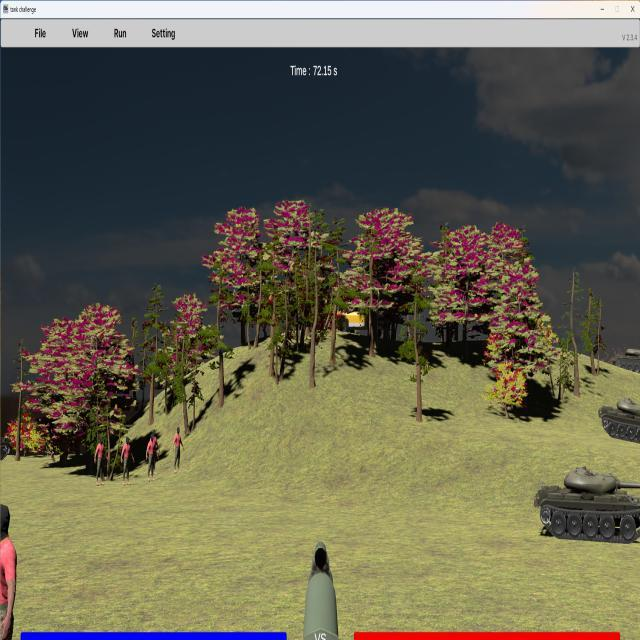Human: (0, 504, 18, 640), (94, 435, 108, 486), (121, 436, 135, 486), (147, 432, 160, 482), (173, 426, 184, 473)
Tank: (534, 466, 640, 545), (598, 397, 640, 446), (612, 347, 640, 375)
